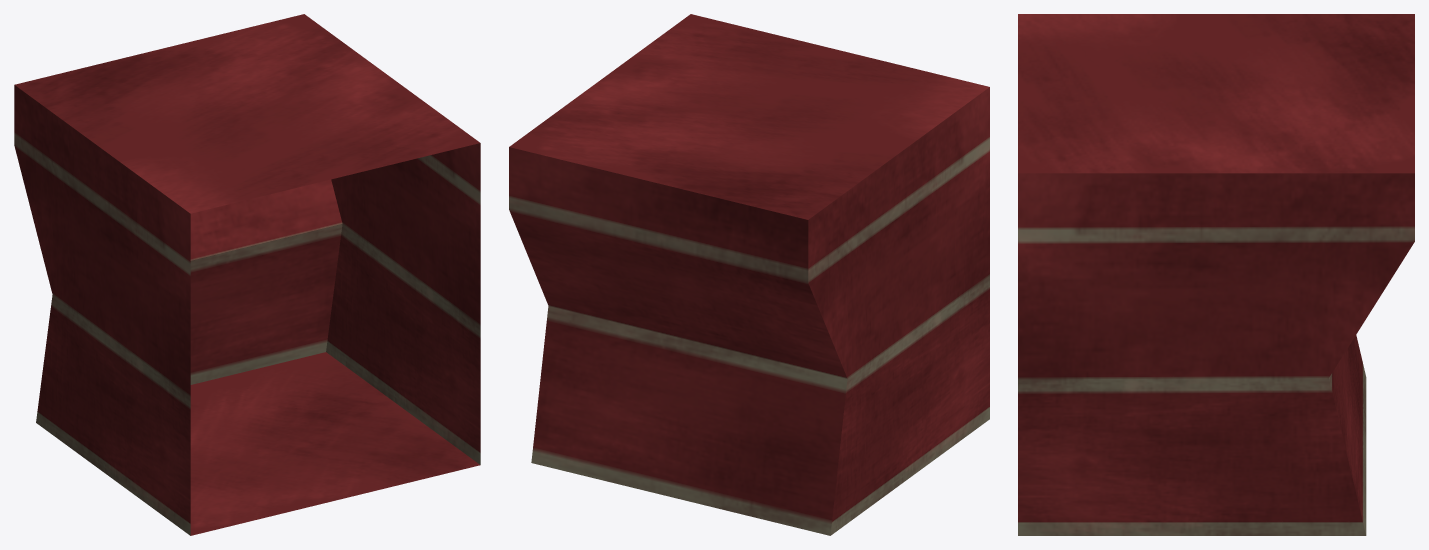
Rendered from Building_FBX.fbx.
3 renders of one model, left to right at view 1: azimuth 30°, elevation 25°; view 2: azimuth 150°, elevation 25°; view 3: azimuth 270°, elevation 25°, orthographic. The views are drawn at different scales.
Visible parts, largest first — view 1: B_1B1; view 2: B_1B1; view 3: B_1B1.
Part boxes in pixels (left/top/right/bottom): B_1B1: left=14, top=14, right=480, bottom=535; B_1B1: left=509, top=14, right=989, bottom=535; B_1B1: left=1018, top=14, right=1414, bottom=535.
Bounding box in the file's own units: 35.07 × 37.24 × 36.92.
